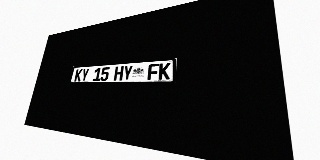plate: (69, 58, 177, 84)
